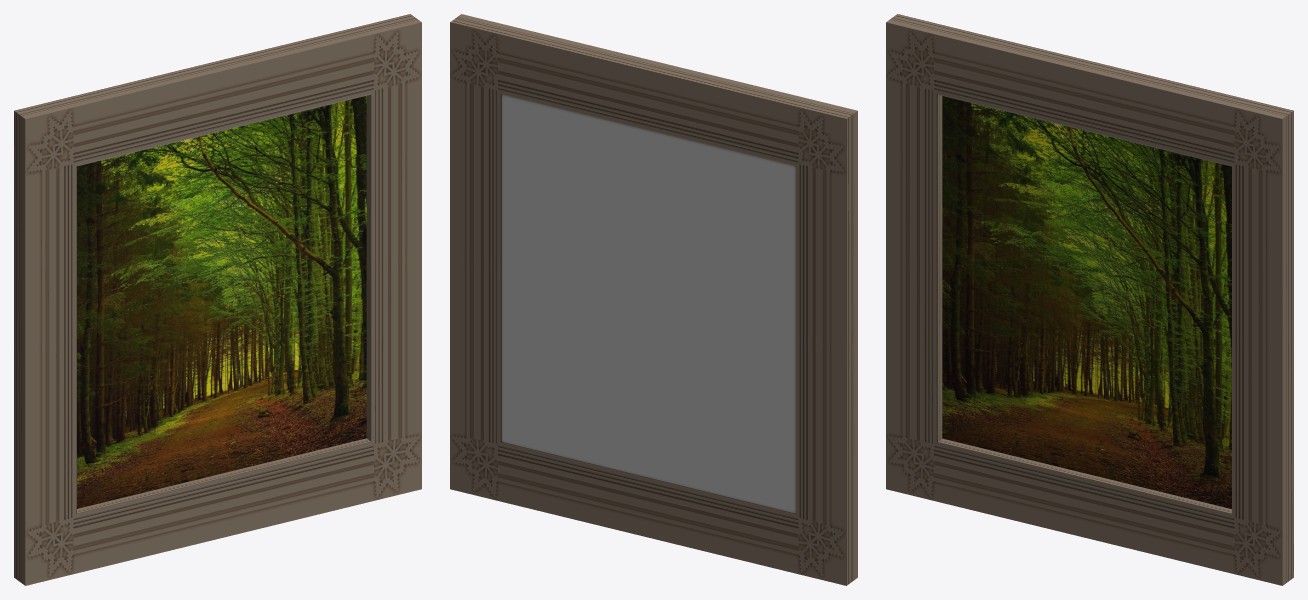
The model's file is Frame_017.FBX.
3 renders of one model, left to right at view 1: azimuth 30°, elevation 25°; view 2: azimuth 150°, elevation 25°; view 3: azimuth 330°, elevation 25°, orthographic.
Visible parts, largest first — view 1: Frame_017; view 2: Frame_017; view 3: Frame_017.
Boxes of the visible parts, x1,y1,x2,y2 form: Frame_017: (14, 14, 421, 585); Frame_017: (450, 14, 857, 585); Frame_017: (886, 14, 1293, 585).
Size of the model in its own units: 720 by 36 by 810.
